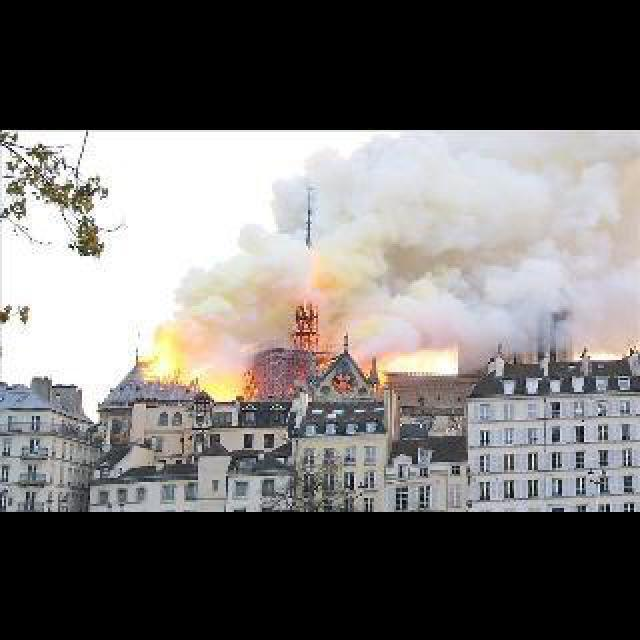Fire: (134, 322, 254, 402), (372, 332, 460, 392)
Smoke: (154, 128, 638, 332)
